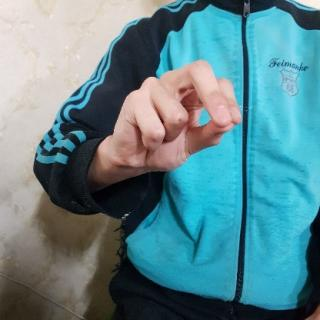QAAF: (106, 56, 246, 178)
